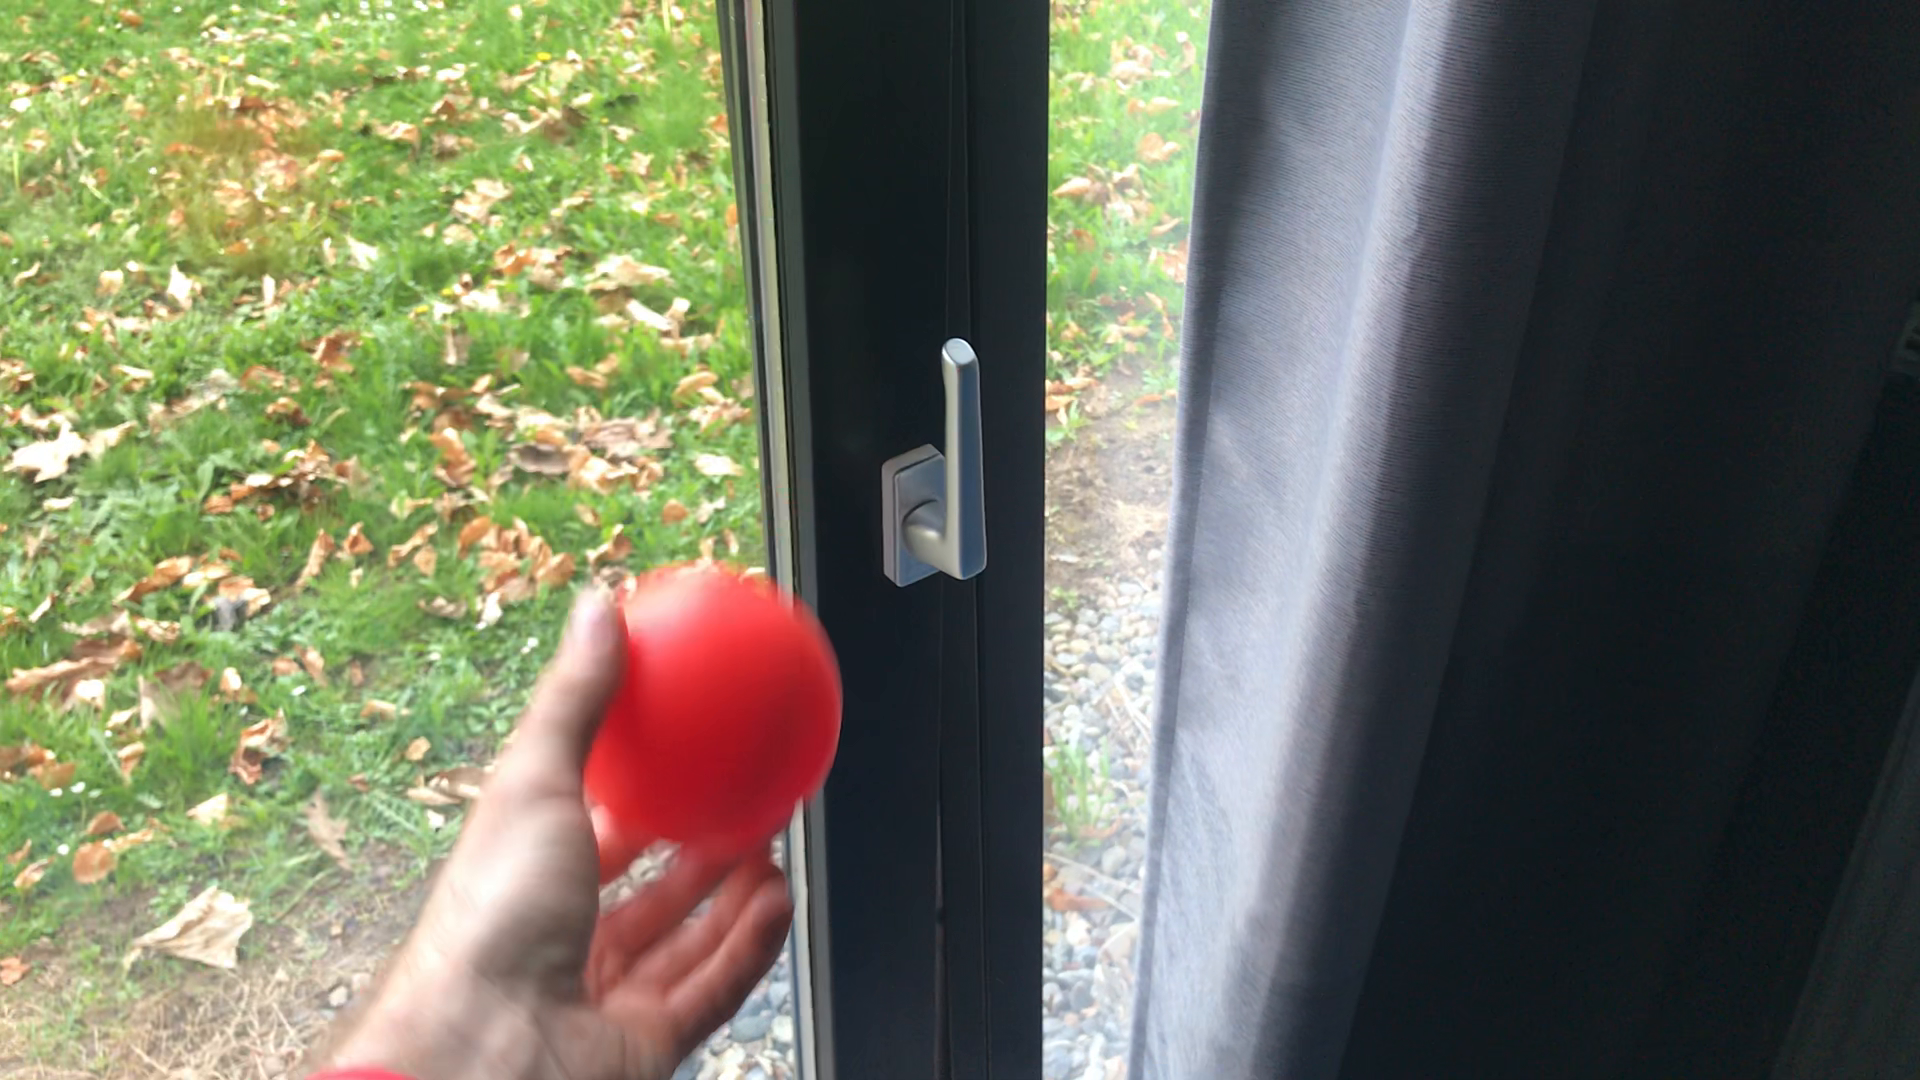Ball: (553, 556, 847, 851)
